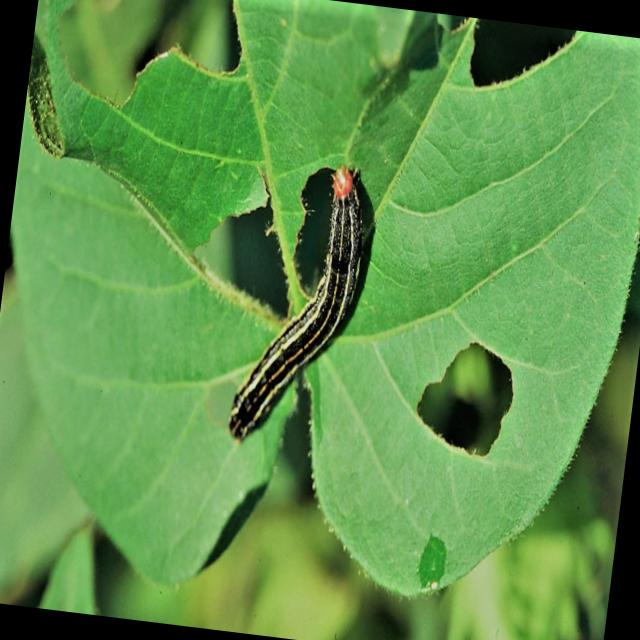Armyworm: (215, 158, 390, 491)
Armyworm_damage: (159, 154, 312, 335), (399, 311, 529, 500)
